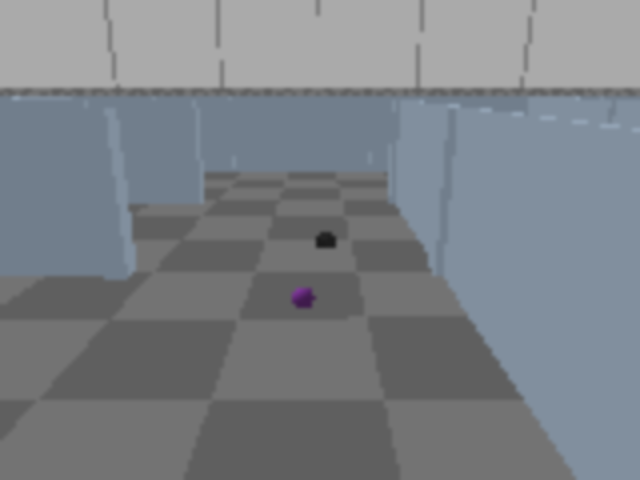puck: (289, 283, 317, 314), (316, 233, 337, 250)
